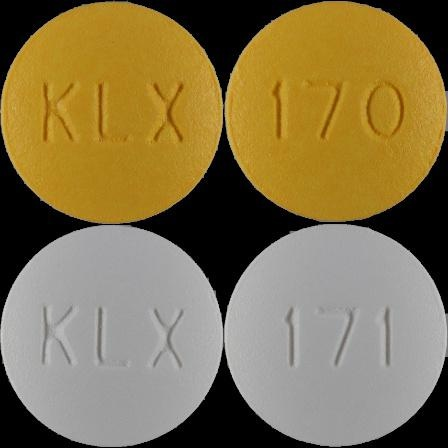0378-7100: (0, 0, 224, 224)
